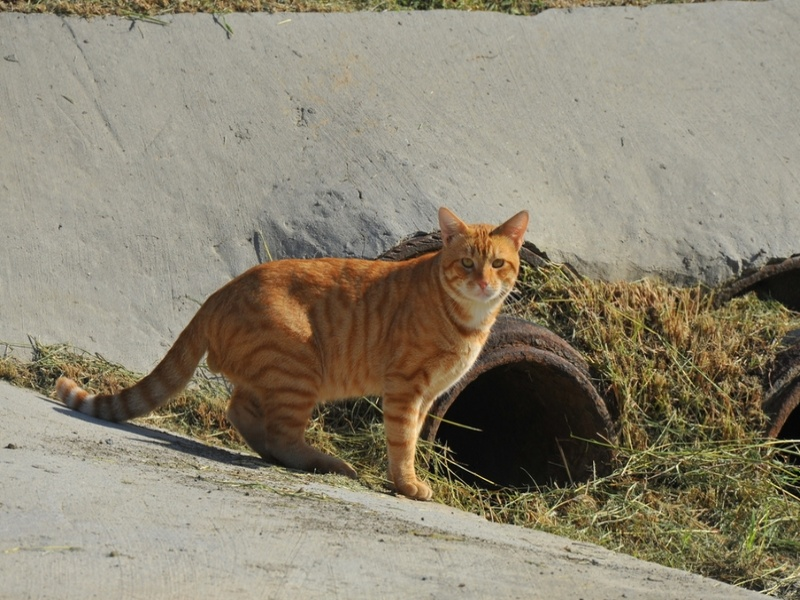cat: (51, 202, 536, 498)
